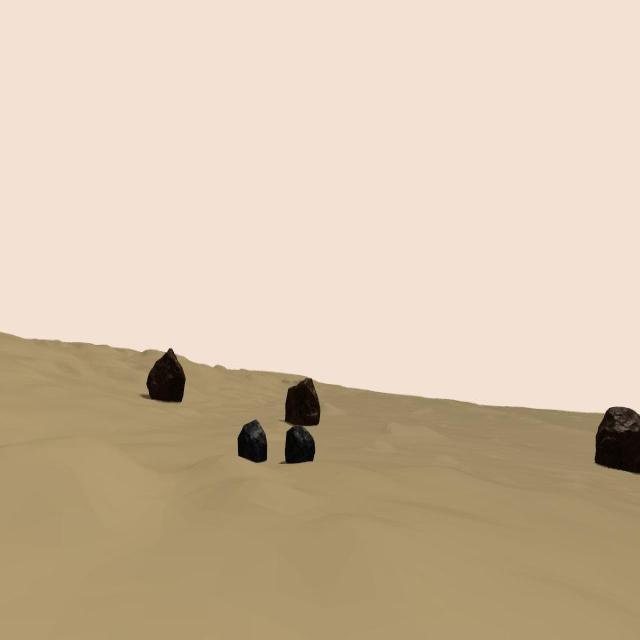rock: (594, 406, 640, 474), (147, 348, 186, 401), (285, 377, 320, 426), (237, 421, 267, 462), (284, 424, 315, 462)
